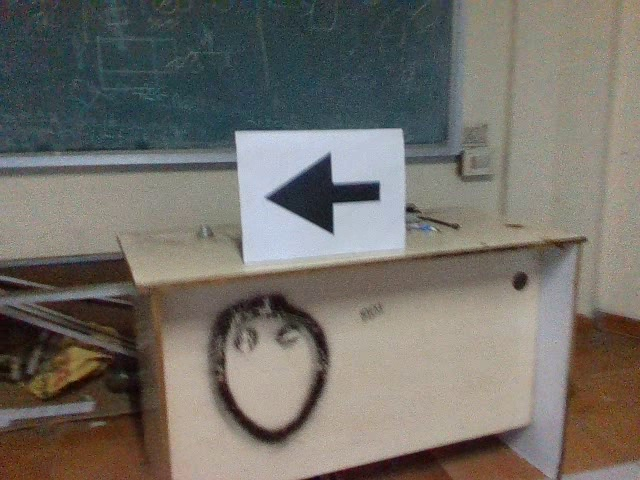Left: (259, 150, 390, 243)
